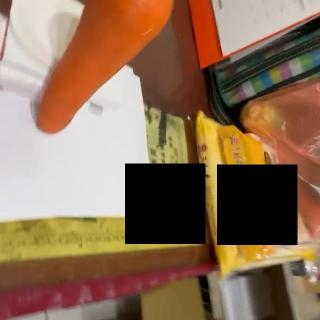carrot: (34, 0, 174, 134)
